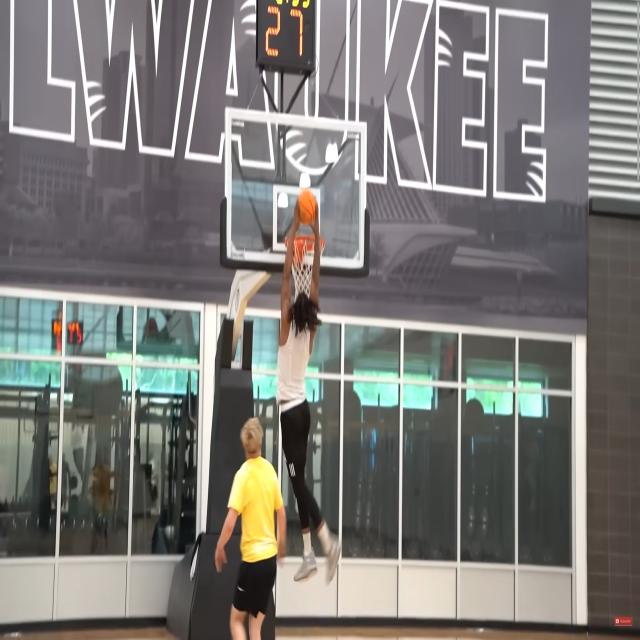Basketball: (296, 189, 318, 223)
Basketball Rim: (286, 234, 325, 298)
